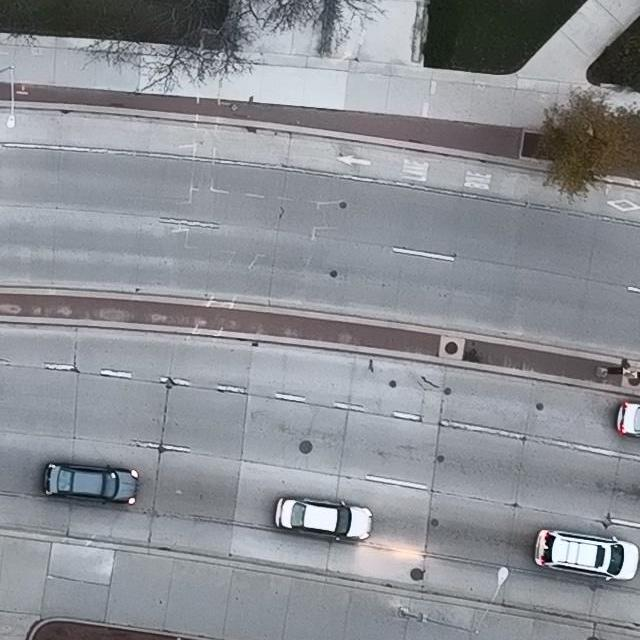car: (533, 529, 640, 581), (275, 496, 373, 542), (41, 461, 138, 504), (615, 400, 640, 439)
